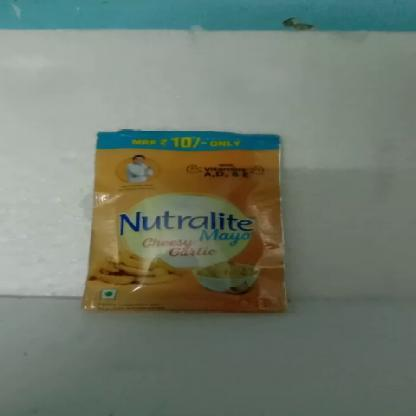Nutralite CHEESY GARLIC MAYO 30g: (94, 134, 282, 313)
